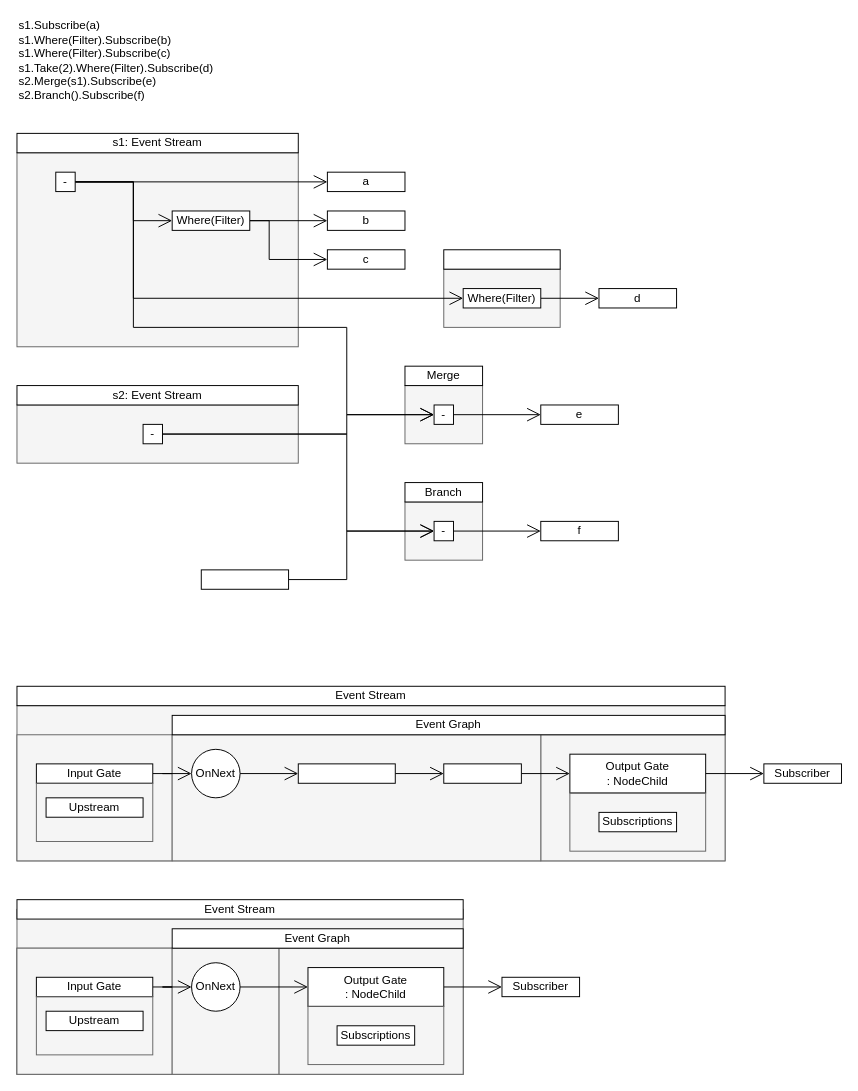
The diagram is 858 pixels wide and 1091 high, and some of its shapes have lost their labels. Here are the shapes that lost their labels. From the top down, the box of each, then its label:
(443, 249, 560, 269): Take(2)
(200, 569, 289, 589): External Event
(297, 763, 395, 783): Node
(443, 763, 521, 783): Where: Node
